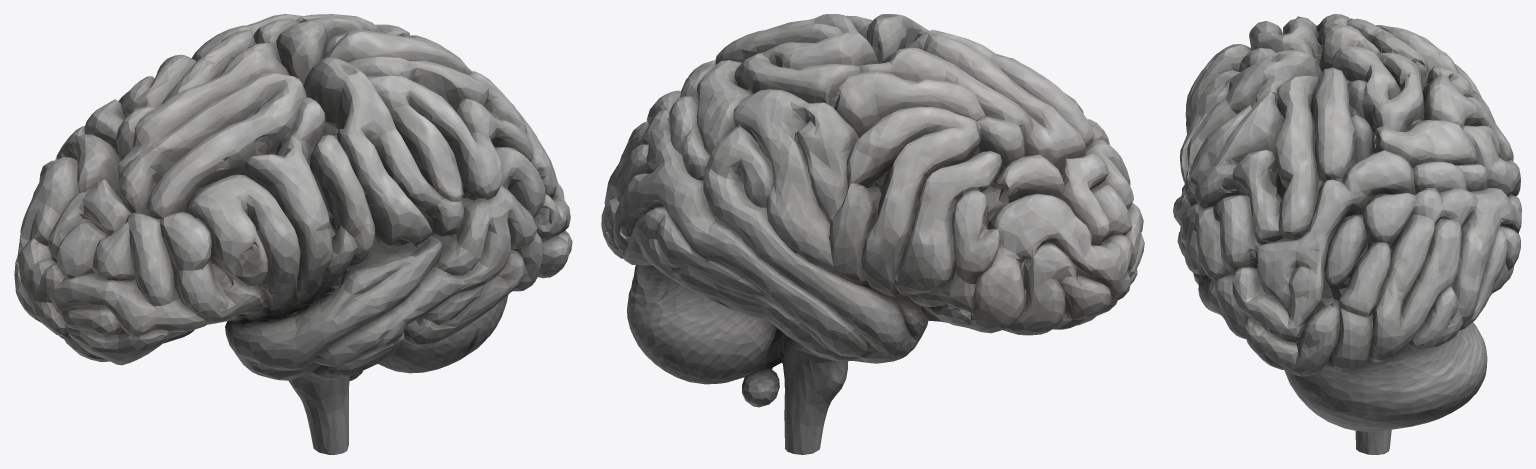
File: brain_side.glb
3 renders of one model, left to right at view 1: azimuth 30°, elevation 25°; view 2: azimuth 150°, elevation 25°; view 3: azimuth 270°, elevation 25°, orthographic. The views are drawn at different scales.
Parts seen in each view (by area): view 1: geometry_0; view 2: geometry_0; view 3: geometry_0.
Part boxes in pixels (x1,y1,x2,y2): geometry_0: (14,14,572,454); geometry_0: (601,14,1144,454); geometry_0: (1173,14,1521,454).
Size of the model in its own units: 0.9979 by 0.794 by 0.6523.
Materials: 1 (1 with a texture image).
